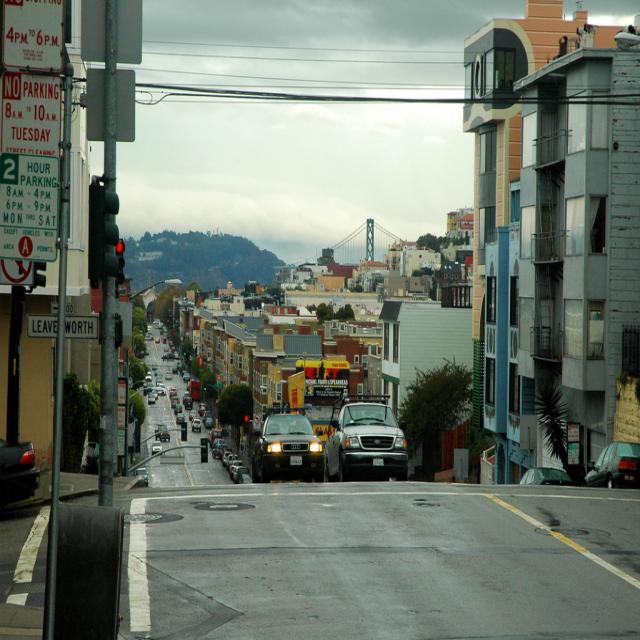off traffic light: (87, 180, 120, 277)
